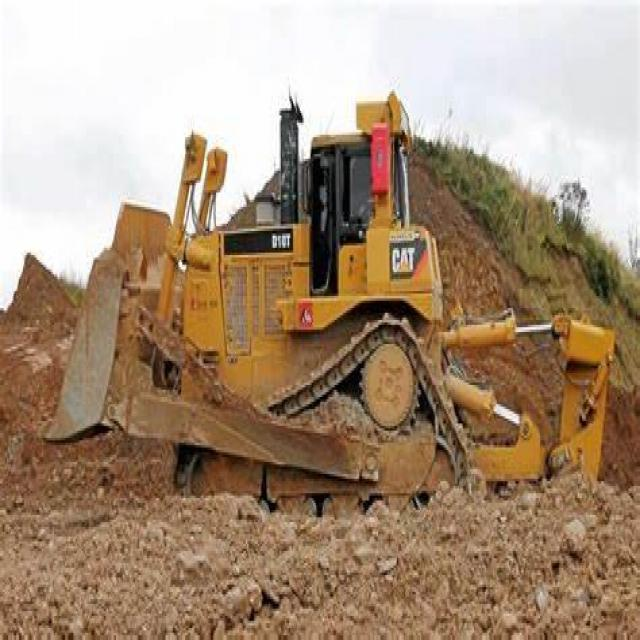Bulldozer: (50, 77, 609, 549)
